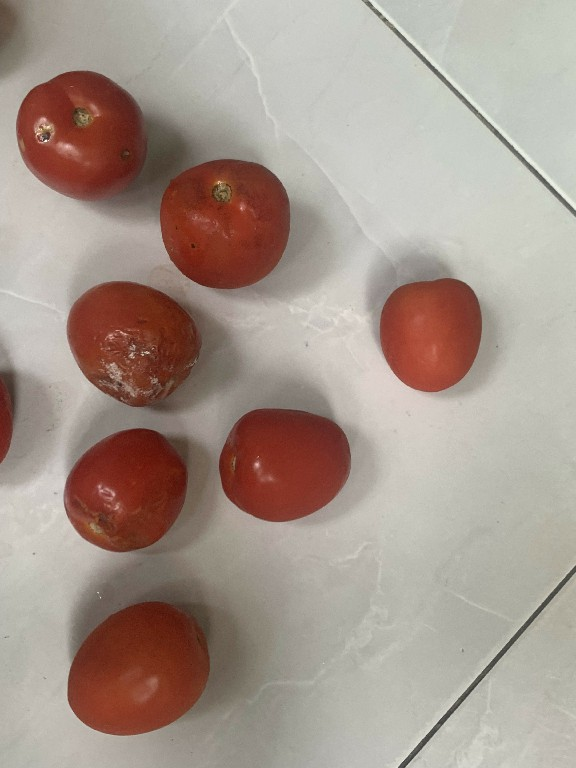NG: (157, 154, 334, 291), (12, 67, 152, 204), (60, 425, 193, 556), (65, 278, 199, 408)
OK: (60, 598, 219, 744), (207, 404, 356, 523), (376, 271, 486, 402)
